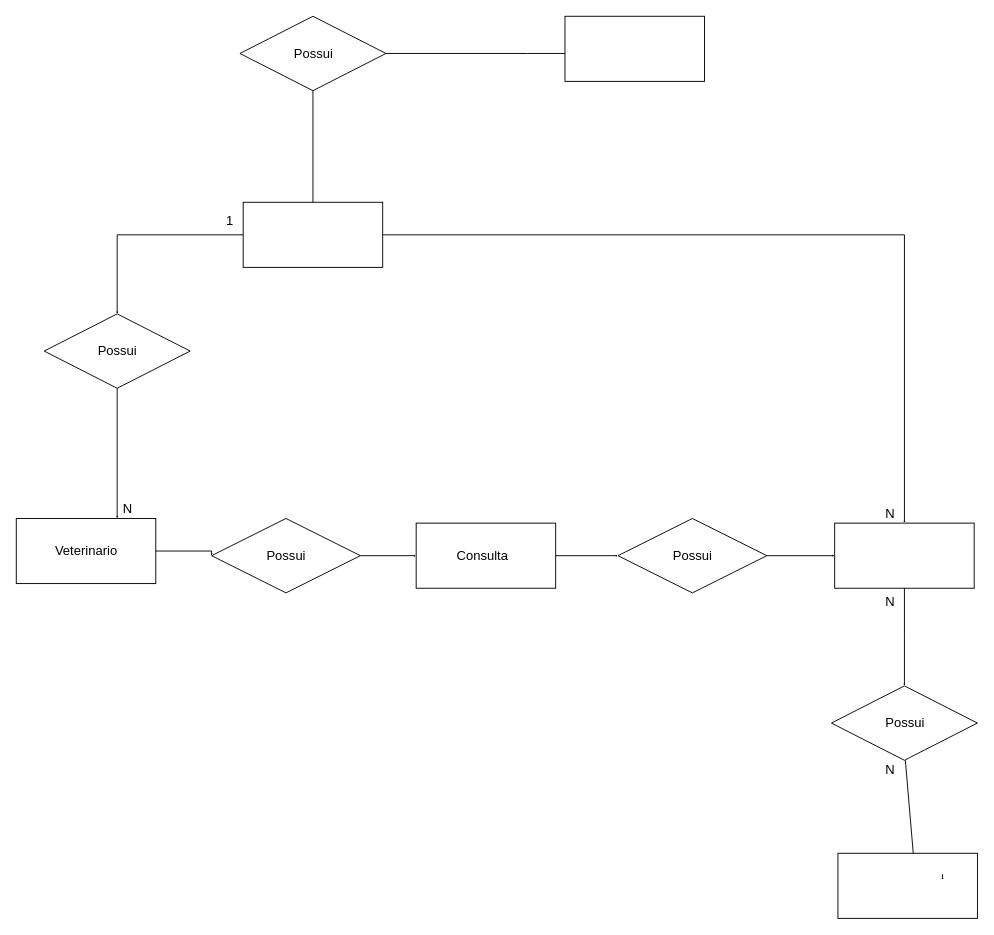
Image size: 994x935. Some labels were removed from this diagram. The centre of each missing label's shape, as x and y in pixels:
"clinica" belongs at pixel 312 234.
"Dono" belongs at pixel 907 885.
"Endereço" belongs at pixel 634 48.
"Pets" belongs at pixel 904 555.
